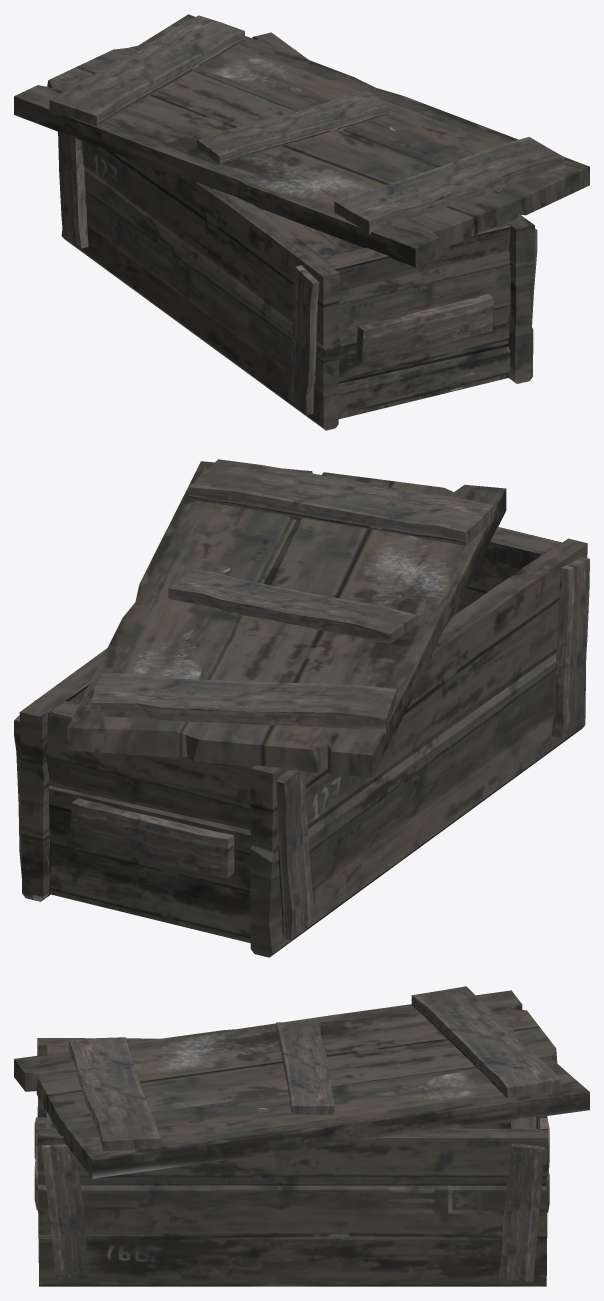
The model's file is crate.opt.glb.
3 renders of one model, top to bottom at view 1: azimuth 30°, elevation 25°; view 2: azimuth 150°, elevation 25°; view 3: azimuth 270°, elevation 25°, orthographic. The views are drawn at different scales.
Visible parts, largest first — view 1: medieval_crate_og001_Standardmaterial_0, lid_wide_og_Standardmaterial_0; view 2: medieval_crate_og001_Standardmaterial_0, lid_wide_og_Standardmaterial_0; view 3: medieval_crate_og001_Standardmaterial_0, lid_wide_og_Standardmaterial_0.
Part boxes in pixels (x1=…): medieval_crate_og001_Standardmaterial_0: x1=58, y1=32, x2=537, y2=430; lid_wide_og_Standardmaterial_0: x1=14, y1=14, x2=589, y2=267; medieval_crate_og001_Standardmaterial_0: x1=14, y1=527, x2=589, y2=957; lid_wide_og_Standardmaterial_0: x1=67, y1=459, x2=506, y2=777; medieval_crate_og001_Standardmaterial_0: x1=34, y1=1038, x2=549, y2=1286; lid_wide_og_Standardmaterial_0: x1=14, y1=986, x2=589, y2=1178.
Bounding box in the file's own units: 37.28 × 18.35 × 53.3.
2 materials, 2 textured.
